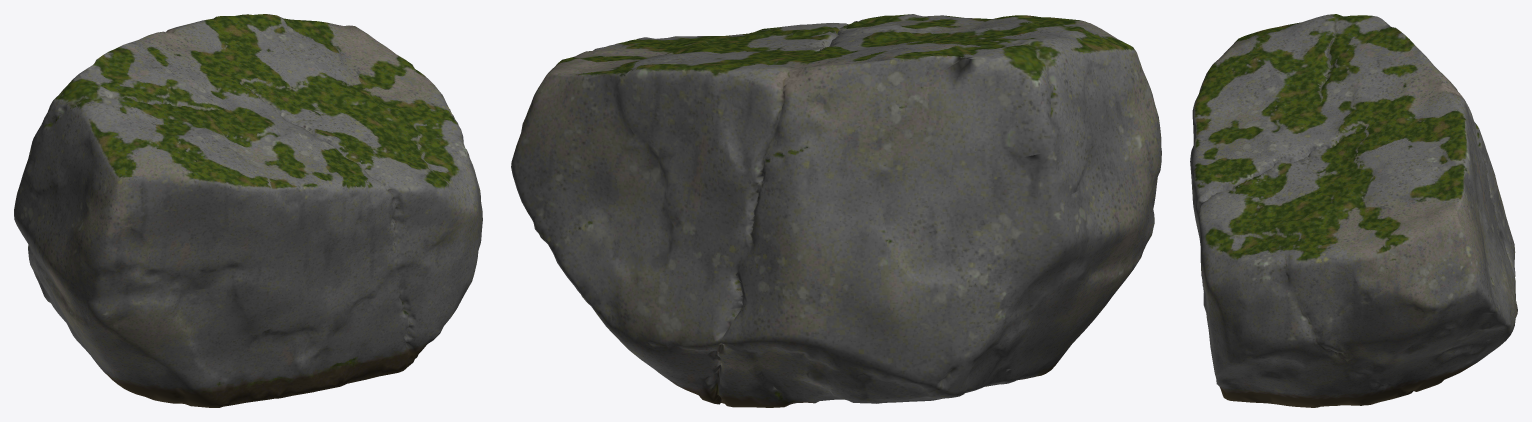
Rendered from GlacialErratic.glb.
3 renders of one model, left to right at view 1: azimuth 30°, elevation 25°; view 2: azimuth 150°, elevation 25°; view 3: azimuth 270°, elevation 25°, orthographic. The views are drawn at different scales.
Parts seen in each view (by area): view 1: erratic-boulder; view 2: erratic-boulder; view 3: erratic-boulder.
Boxes of the visible parts, left/top/right/bottom form: erratic-boulder: left=14, top=14, right=482, bottom=407; erratic-boulder: left=511, top=14, right=1161, bottom=407; erratic-boulder: left=1190, top=14, right=1517, bottom=407.
Bounding box in the file's own units: 2.33 × 1.56 × 1.69.
1 material, 1 textured.
